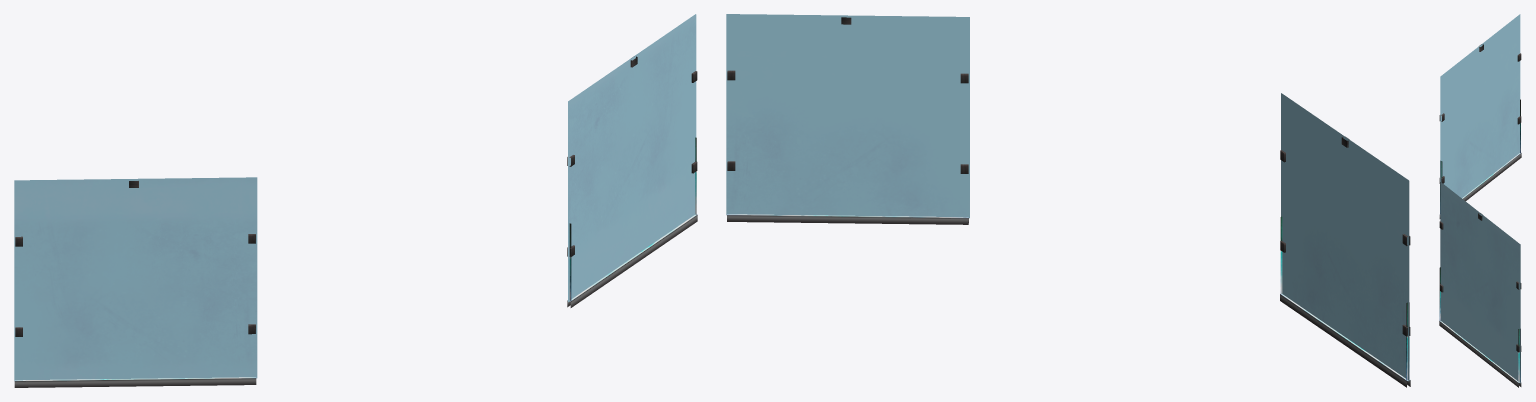
File: Glass_Board.DAE
3 renders of one model, left to right at view 1: azimuth 30°, elevation 25°; view 2: azimuth 150°, elevation 25°; view 3: azimuth 270°, elevation 25°, orthographic. The views are drawn at different scales.
Visible parts, largest first — view 1: Glass_Board; view 2: Glass_Board; view 3: Glass_Board.
Part boxes in pixels (bbox=[...]): Glass_Board: bbox=[14, 14, 697, 387]; Glass_Board: bbox=[726, 14, 1410, 387]; Glass_Board: bbox=[1439, 14, 1521, 387].
Bounding box in the file's own units: 253 × 38.07 × 73.35.
Materials: 1 (1 with a texture image).
